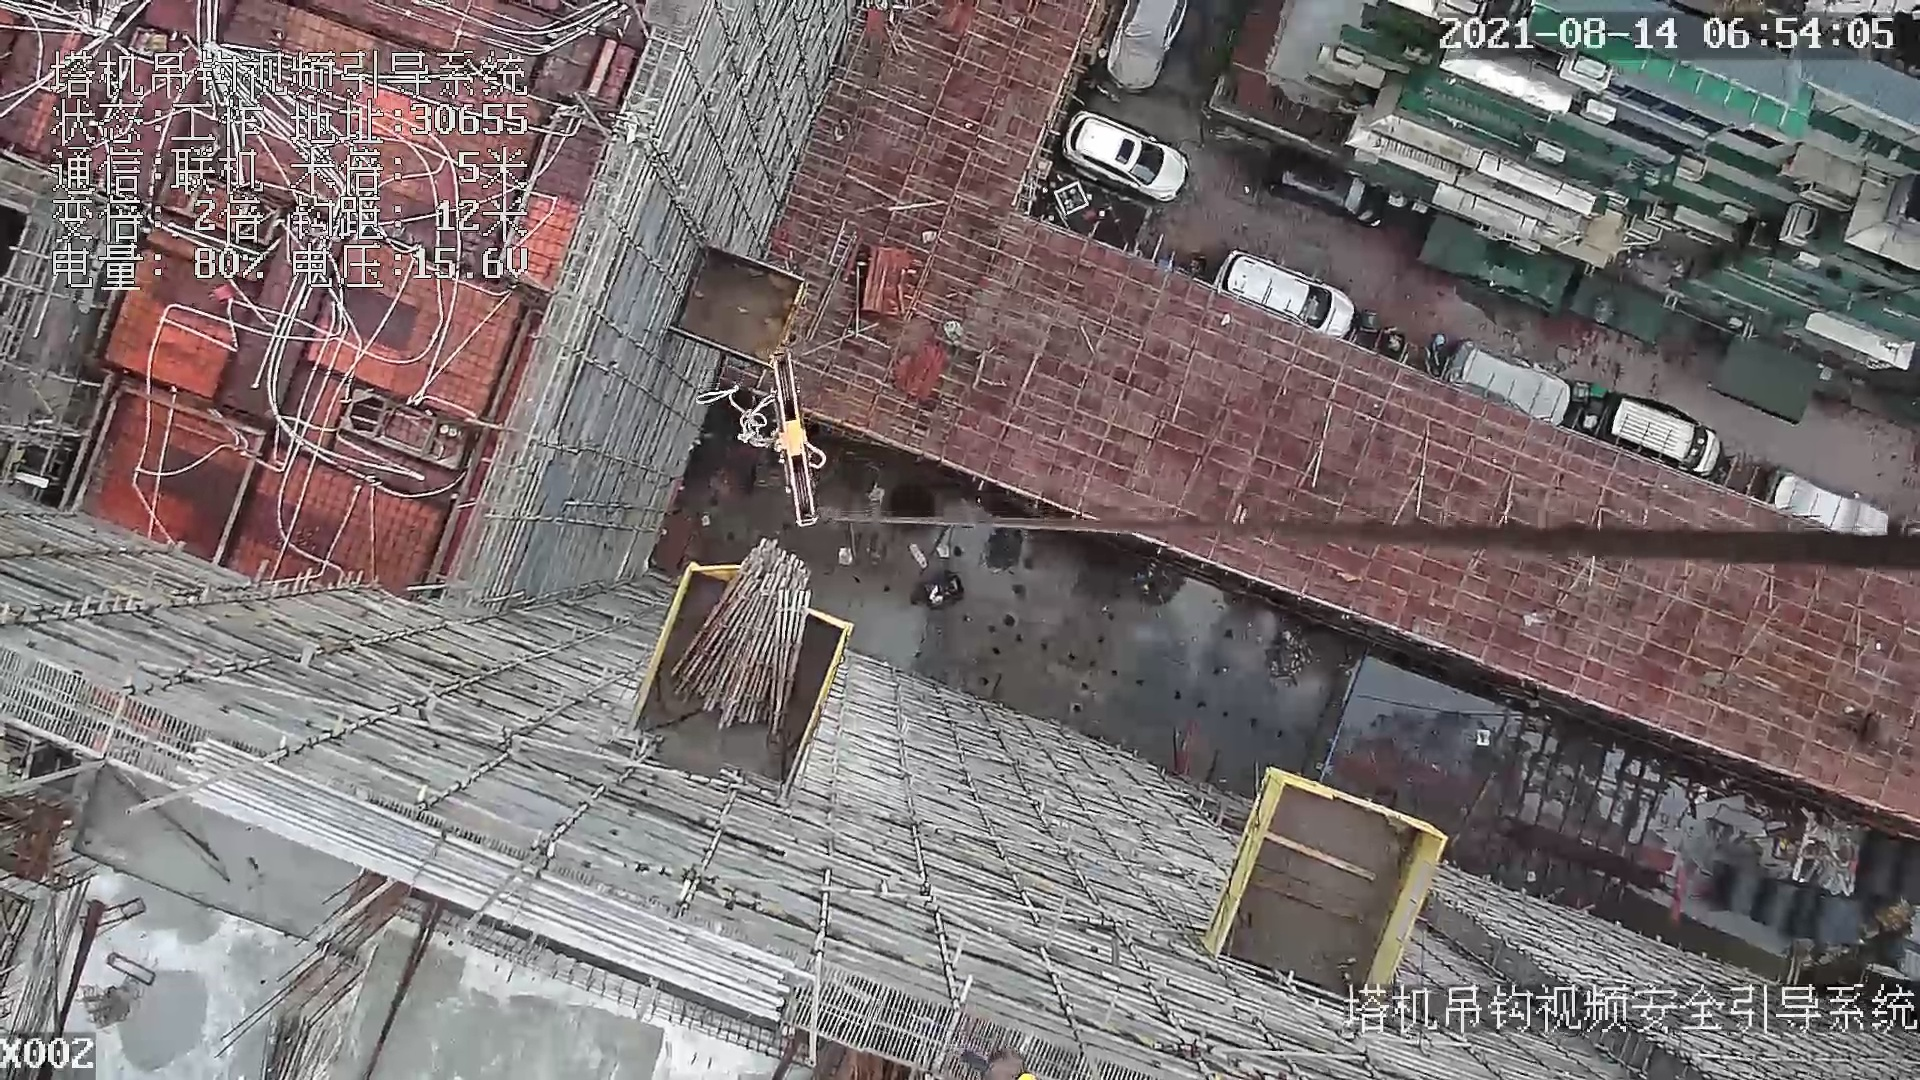hook: (767, 356, 831, 533)
rebar: (182, 737, 794, 1026)
scaffold: (670, 534, 814, 735)
